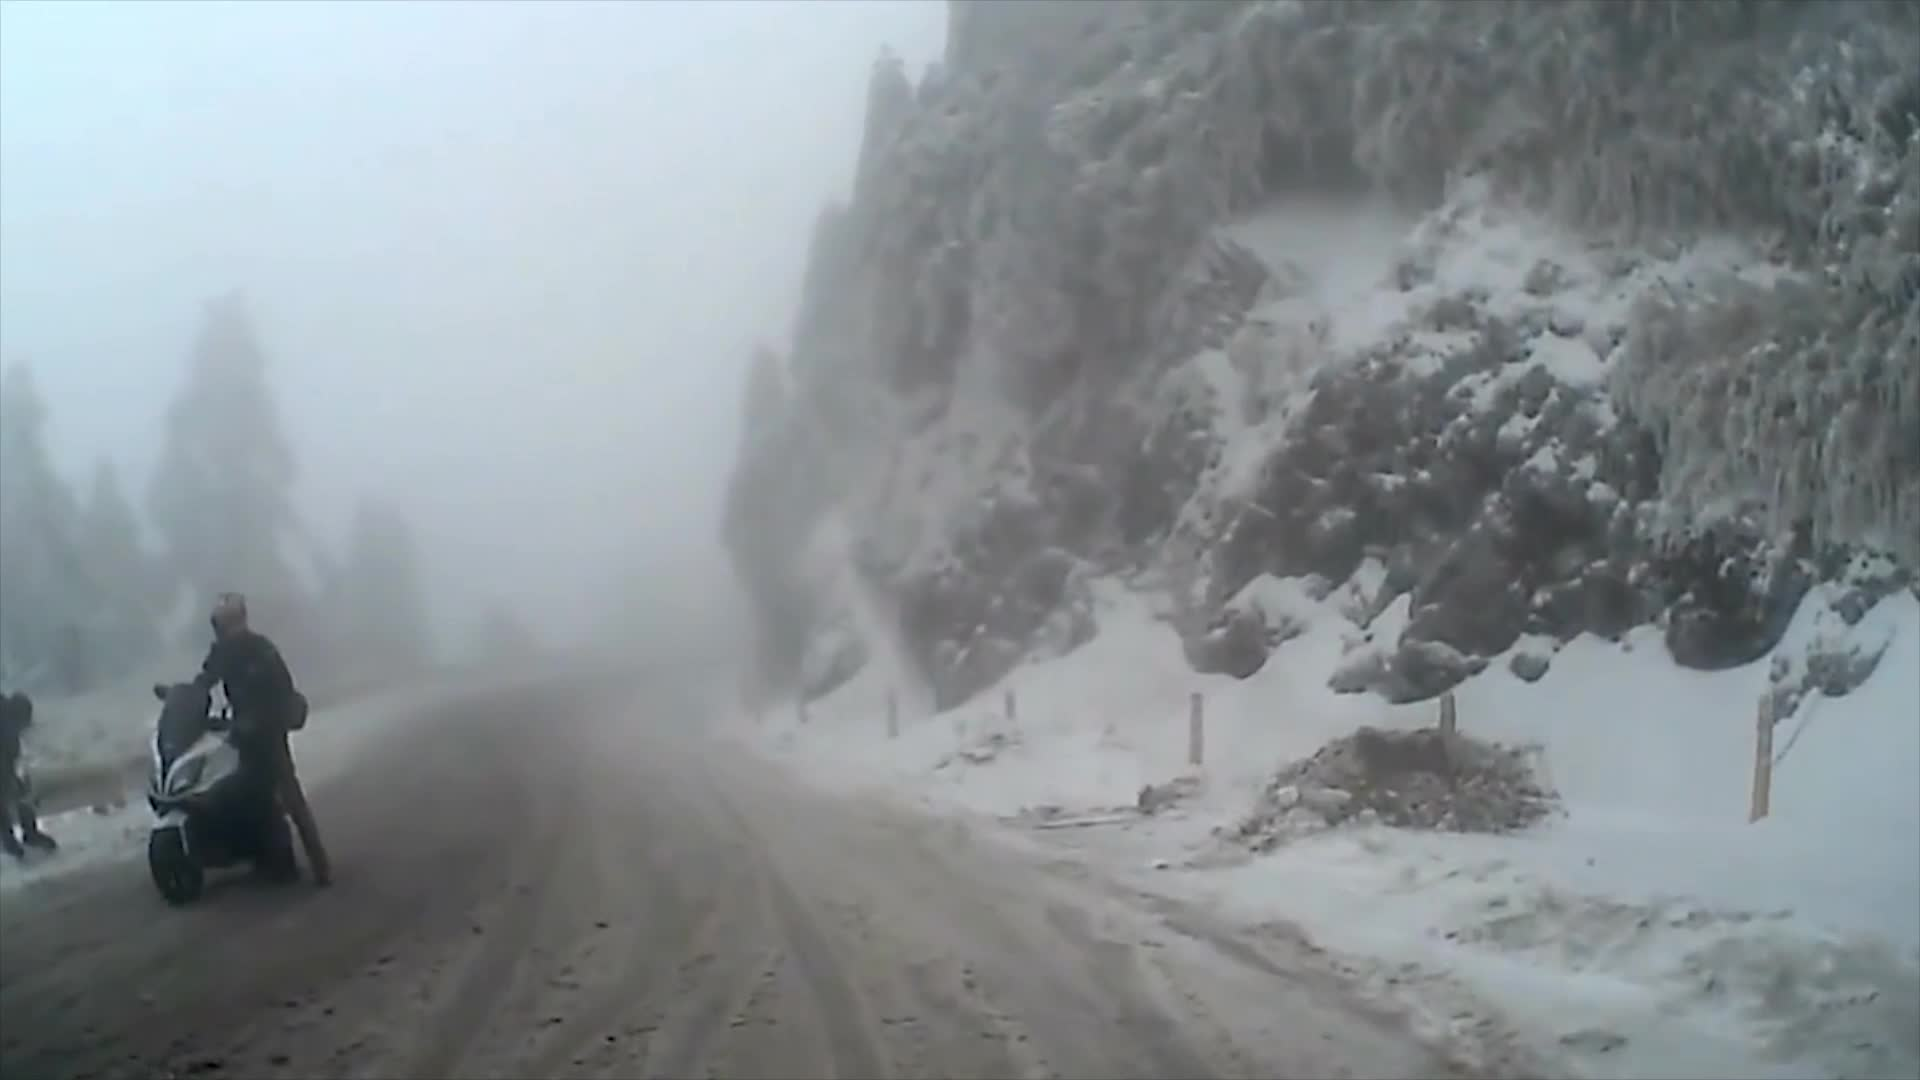pedestrian: (164, 580, 337, 894), (1, 694, 54, 867)
